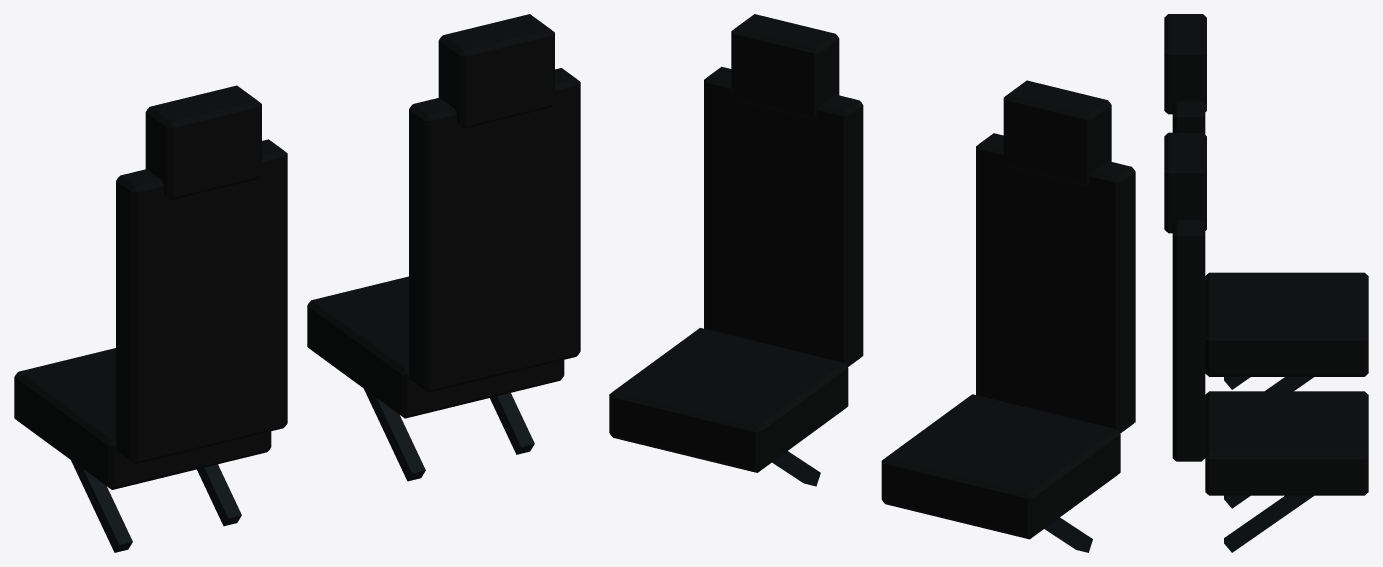
File: Cockpit_Transport__Seat.obj
3 renders of one model, left to right at view 1: azimuth 30°, elevation 25°; view 2: azimuth 150°, elevation 25°; view 3: azimuth 270°, elevation 25°, orthographic. The views are drawn at different scales.
Visible parts, largest first — view 1: Seat_back, Seat_back.001, Seat_cushion.001, Seat_cushion, Headrest, Headrest.001, Seat_support.002, Seat_support, Seat_support.001, Seat_support.003; view 2: Seat_back.001, Seat_back, Seat_cushion, Seat_cushion.001, Headrest.001, Headrest, Seat_support, Seat_support.002; view 3: Seat_cushion, Seat_cushion.001, Seat_back.001, Headrest.001, Headrest, Seat_support.003, Seat_back, Seat_support.001.
Boxes of the visible parts, x1=… form: Seat_back: x1=116, y1=139, x2=287, y2=464; Seat_back.001: x1=409, y1=68, x2=580, y2=392; Seat_cushion.001: x1=307, y1=276, x2=564, y2=418; Seat_cushion: x1=14, y1=348, x2=271, y2=489; Headrest: x1=145, y1=85, x2=261, y2=200; Headrest.001: x1=438, y1=14, x2=554, y2=128; Seat_support.002: x1=364, y1=389, x2=425, y2=481; Seat_support: x1=71, y1=460, x2=132, y2=552; Seat_support.001: x1=197, y1=464, x2=241, y2=526; Seat_support.003: x1=490, y1=393, x2=534, y2=454; Seat_back.001: x1=704, y1=66, x2=863, y2=366; Seat_back: x1=976, y1=133, x2=1135, y2=433; Seat_cushion: x1=881, y1=394, x2=1120, y2=539; Seat_cushion.001: x1=609, y1=328, x2=848, y2=472; Headrest.001: x1=731, y1=14, x2=839, y2=119; Headrest: x1=1003, y1=80, x2=1111, y2=185; Seat_support: x1=1044, y1=517, x2=1092, y2=552; Seat_support.002: x1=772, y1=451, x2=820, y2=486; Seat_cushion: x1=1205, y1=272, x2=1368, y2=376; Seat_cushion.001: x1=1205, y1=391, x2=1368, y2=495; Seat_back.001: x1=1172, y1=220, x2=1205, y2=461; Headrest.001: x1=1164, y1=132, x2=1206, y2=233; Headrest: x1=1164, y1=14, x2=1206, y2=114; Seat_support.003: x1=1224, y1=495, x2=1313, y2=552; Seat_back: x1=1172, y1=101, x2=1205, y2=134; Seat_support.001: x1=1265, y1=377, x2=1313, y2=391.
Size of the model in its own units: 1.34 by 1.28 by 0.625.
